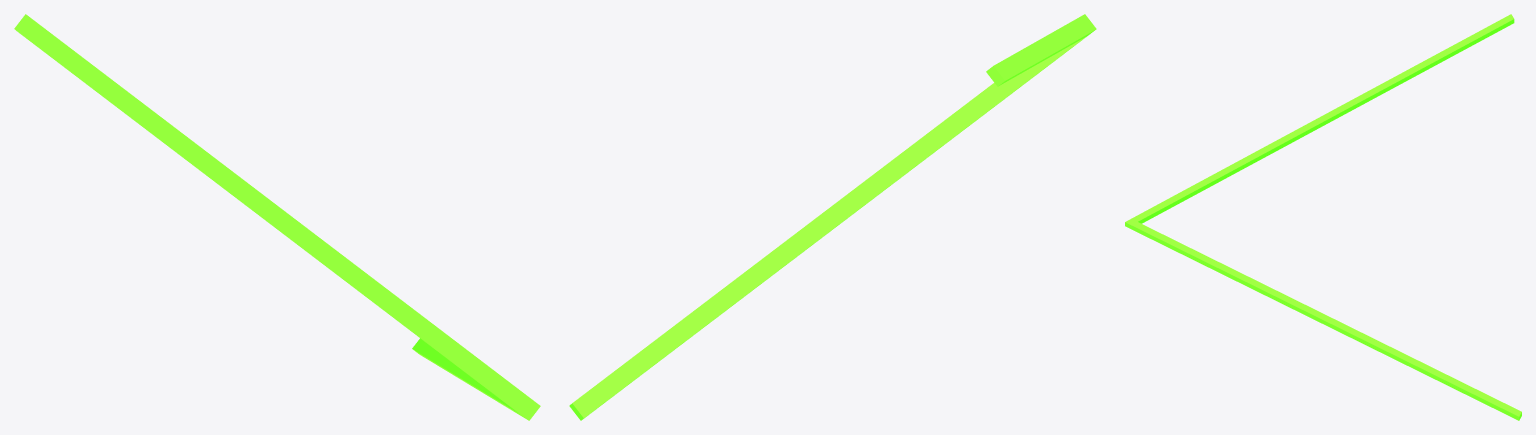
Rendered from prev_on.glb.
3 views of the same model, side by side, from view 1: azimuth 30°, elevation 25°; view 2: azimuth 150°, elevation 25°; view 3: azimuth 270°, elevation 25° (orthographic). The views are drawn at different scales.
Parts seen in each view (by area): view 1: prev_on; view 2: prev_on; view 3: prev_on.
Boxes of the visible parts, x1,y1,x2,y2 form: prev_on: (14,14,540,420); prev_on: (569,14,1096,420); prev_on: (1125,14,1521,420).
Bounding box in the file's own units: 0.0311 × 0.0311 × 0.0396.
